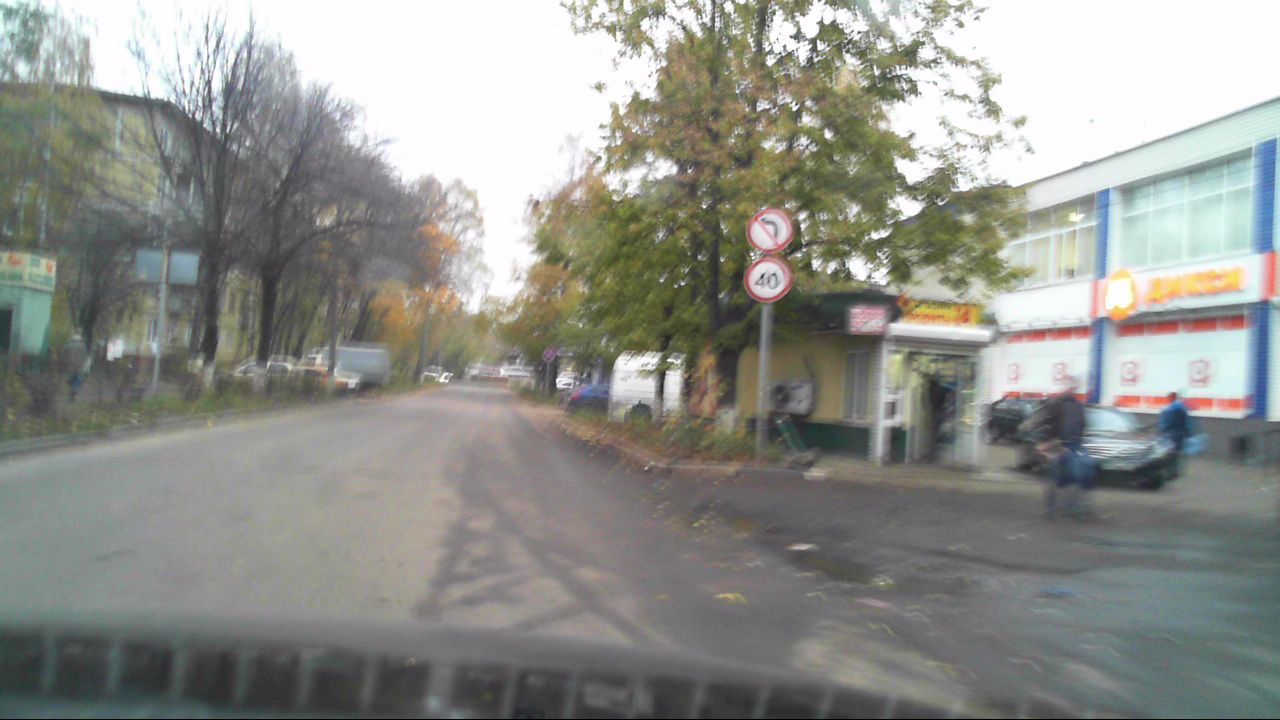speed_warning_40: (743, 256, 791, 302)
